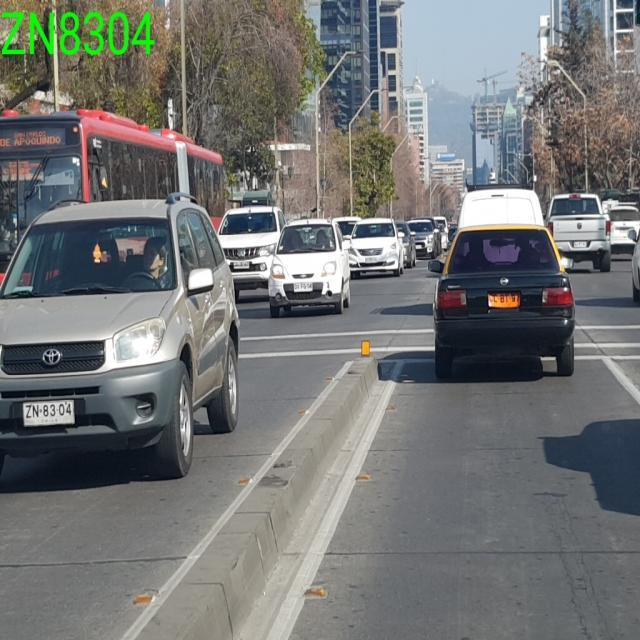Ad-signs: (0, 6, 156, 58)
Bus: (0, 106, 227, 273)
Car: (0, 191, 241, 482), (426, 222, 576, 380)
